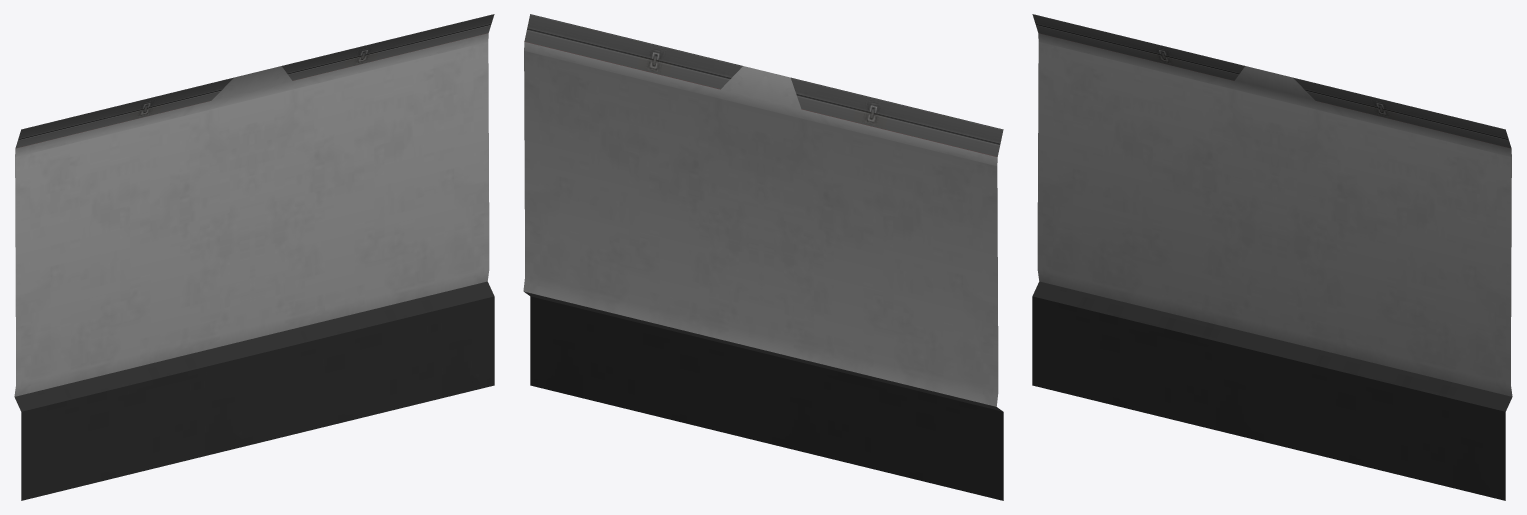
File: sf_wall_astra_flat.glb
3 views of the same model, side by side, from view 1: azimuth 30°, elevation 25°; view 2: azimuth 150°, elevation 25°; view 3: azimuth 330°, elevation 25° (orthographic).
Parts seen in each view (by area): view 1: WallAstra_Straight_Flat; view 2: WallAstra_Straight_Flat; view 3: WallAstra_Straight_Flat.
Boxes of the visible parts, x1,y1,x2,y2 form: WallAstra_Straight_Flat: (14, 14, 494, 500); WallAstra_Straight_Flat: (523, 14, 1003, 500); WallAstra_Straight_Flat: (1032, 14, 1512, 500).
Size of the model in its own units: 4 by 3 by 0.1.
Materials: 3 (3 with a texture image).
